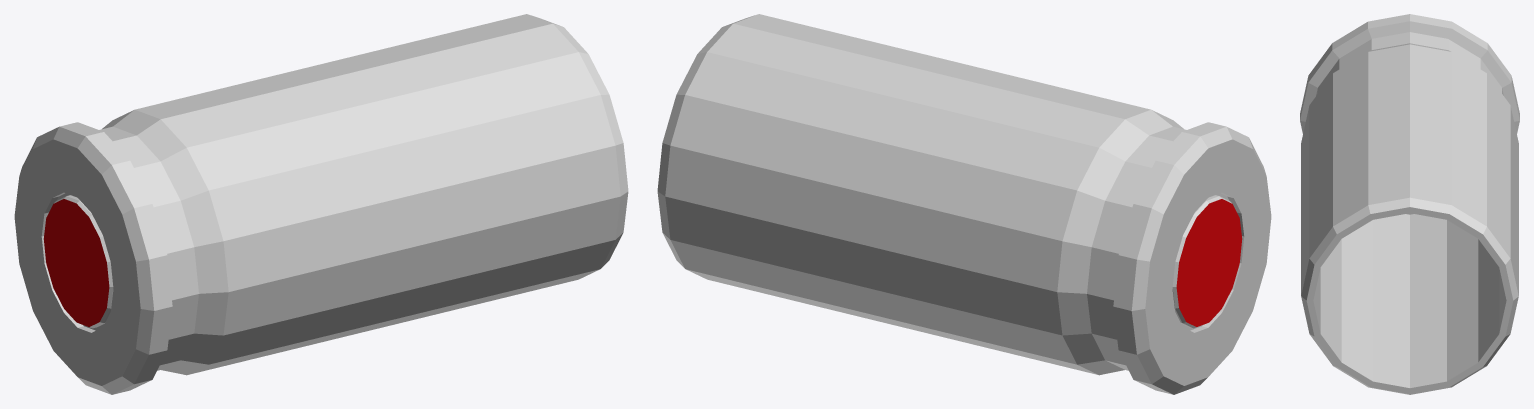
File: HandgunShell.fbx
3 views of the same model, side by side, from view 1: azimuth 30°, elevation 25°; view 2: azimuth 150°, elevation 25°; view 3: azimuth 270°, elevation 25° (orthographic). The views are drawn at different scales.
Parts seen in each view (by area): view 1: HandgunRound; view 2: HandgunRound; view 3: HandgunRound.
Part boxes in pixels (x1,y1,x2,y2): HandgunRound: [14, 14, 628, 394]; HandgunRound: [657, 14, 1271, 394]; HandgunRound: [1300, 14, 1519, 394].
Bounding box in the file's own units: 0.0332 × 0.0162 × 0.0162.
